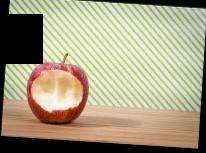rotten apple: (24, 59, 91, 127)
